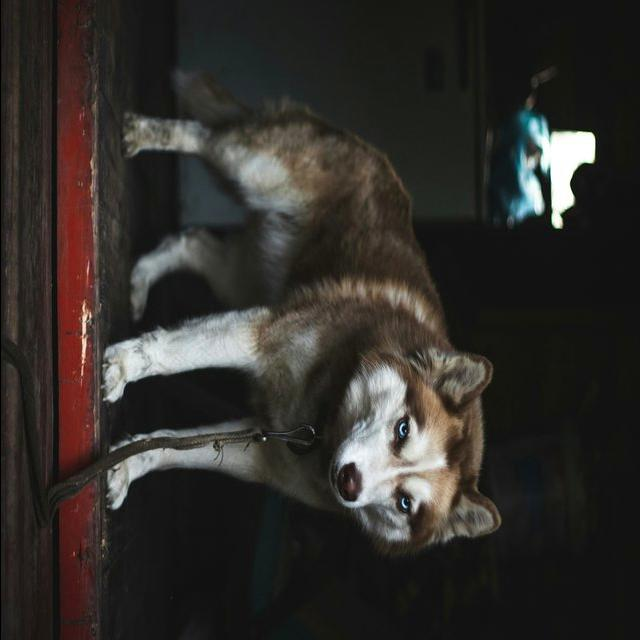husky: (99, 67, 503, 555)
